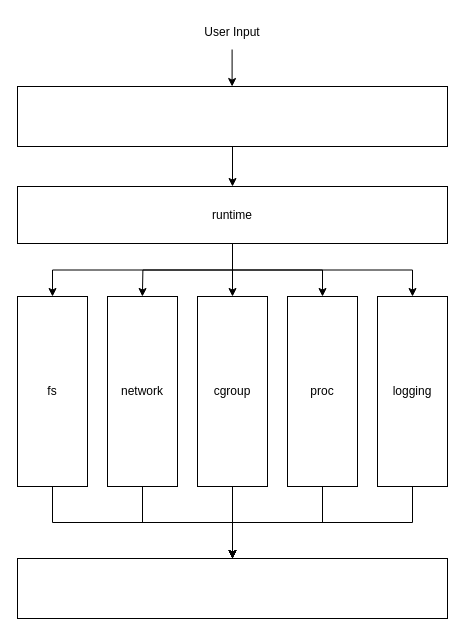
Image size: 465x636. Some labels were removed from this diagram. The shapes that lost their labels are listed below. From the top down, each one's centre as x and y in pixels, then its label:
At [232,116]: "cmd".
At [232,588]: "os/kernel".
